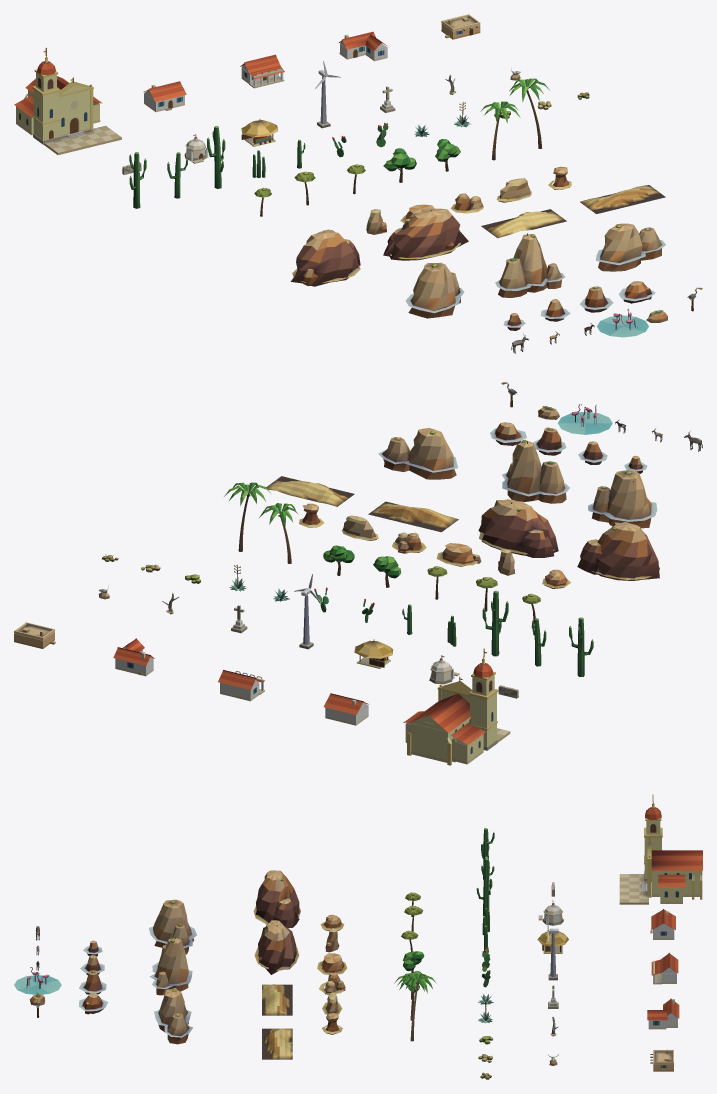
Rendered from falcon_kit.glb.
3 views of the same model, one above another, from view 1: azimuth 30°, elevation 25°; view 2: azimuth 150°, elevation 25°; view 3: azimuth 270°, elevation 25° (orthographic). The views are drawn at different scales.
Parts seen in each view (by area): view 1: iglesia_coro, cerro_rocoso_b, cerro_rocoso_a, islote_b, islote_c, islote_a, duna_cresta_b, duna_cresta_a, casa_falcon_b, casa_falcon_c, casa_falcon_a, flamenco_grupo (+9 smaller); view 2: iglesia_coro, cerro_rocoso_a, cerro_rocoso_b, islote_b, islote_c, islote_a, duna_cresta_a, duna_cresta_b, flamenco_grupo, casa_falcon_a, casa_falcon_b, casa_falcon_c (+8 smaller); view 3: iglesia_coro, cerro_rocoso_a, cerro_rocoso_b, islote_b, islote_a, islote_c, duna_cresta_a, duna_cresta_b, flamenco_grupo, casa_falcon_c, casa_falcon_b, casa_falcon_a (+5 smaller).
Part boxes in pixels (x1,y1,x2,y2): iglesia_coro: (14,47,121,154); cerro_rocoso_b: (383,208,468,260); cerro_rocoso_a: (290,230,360,286); islote_b: (495,233,564,297); islote_c: (595,223,665,271); islote_a: (405,262,464,318); duna_cresta_b: (580,185,665,213); duna_cresta_a: (481,209,566,238); casa_falcon_b: (240,54,284,88); casa_falcon_c: (339,31,387,61); casa_falcon_a: (143,81,186,112); flamenco_grupo: (597,308,648,337); iglesia_coro: (403,648,510,765); cerro_rocoso_a: (577,522,659,580); cerro_rocoso_b: (478,499,558,557); islote_b: (502,439,569,503); islote_c: (378,428,457,479); islote_a: (588,470,657,528); duna_cresta_a: (368,501,458,532); duna_cresta_b: (266,476,354,506); flamenco_grupo: (557,404,612,434); casa_falcon_a: (323,693,369,725); casa_falcon_b: (218,670,264,701); casa_falcon_c: (113,638,154,676); iglesia_coro: (619,794,702,904); cerro_rocoso_a: (253,870,300,928); cerro_rocoso_b: (254,920,299,974); islote_b: (149,936,192,995); islote_a: (149,899,196,954); islote_c: (154,988,192,1044); duna_cresta_a: (262,984,292,1015); duna_cresta_b: (262,1028,292,1059); flamenco_grupo: (14,967,61,994); casa_falcon_c: (647,998,679,1029); casa_falcon_b: (651,952,678,984); casa_falcon_a: (650,909,675,939).
Size of the model in its own units: 159 by 33 by 225.
